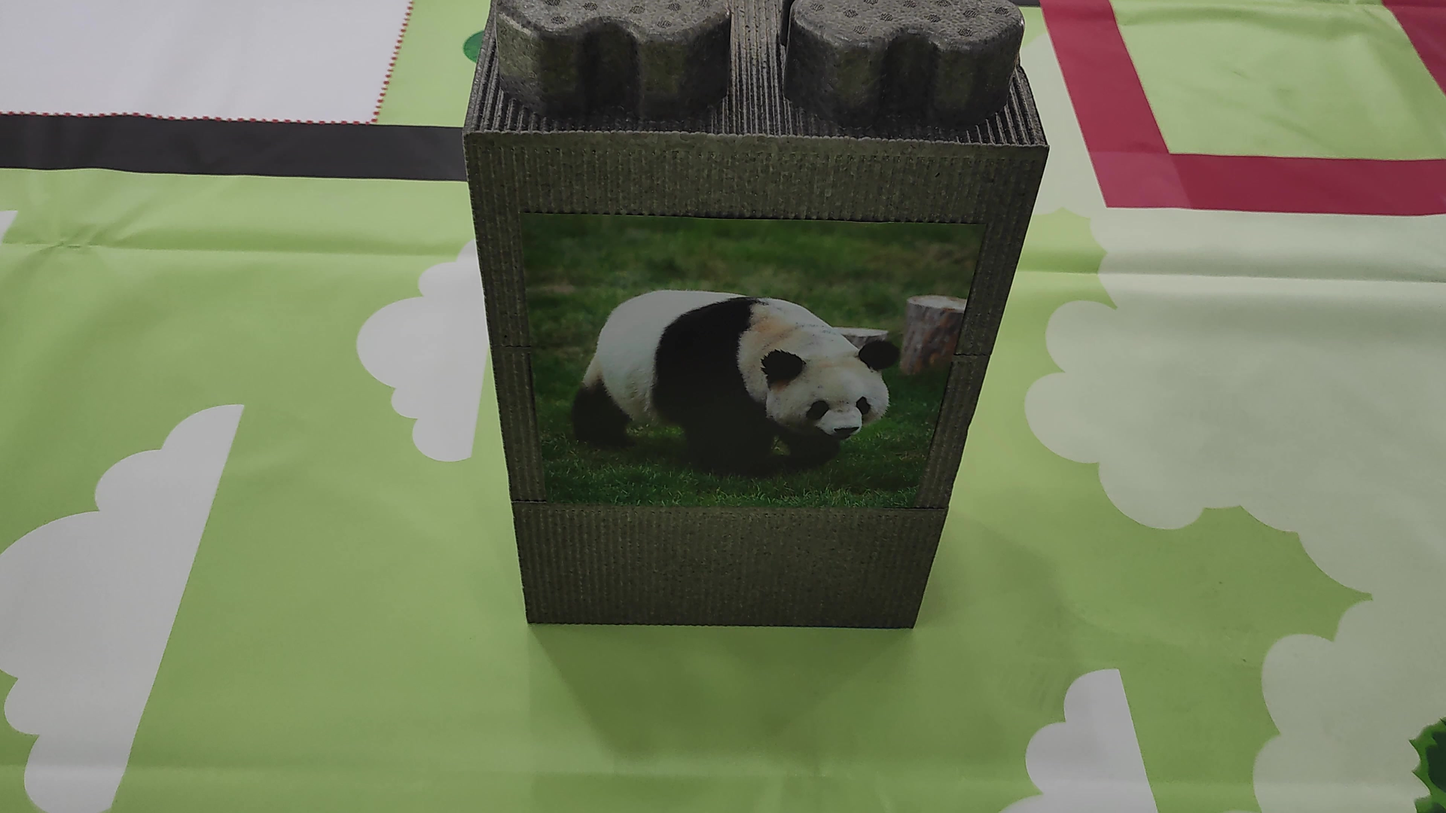panda: (557, 264, 920, 509)
